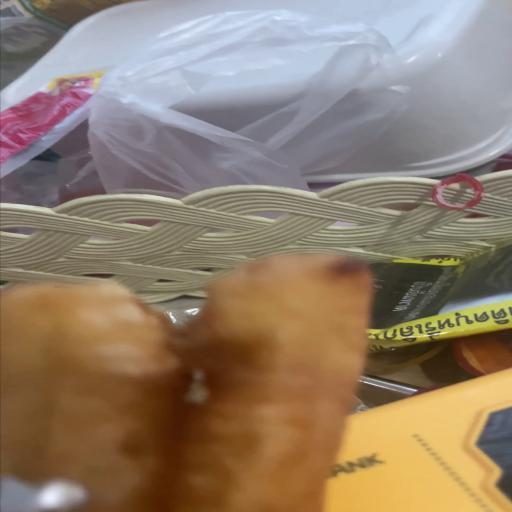street_burnt_defect: (0, 256, 369, 512)
